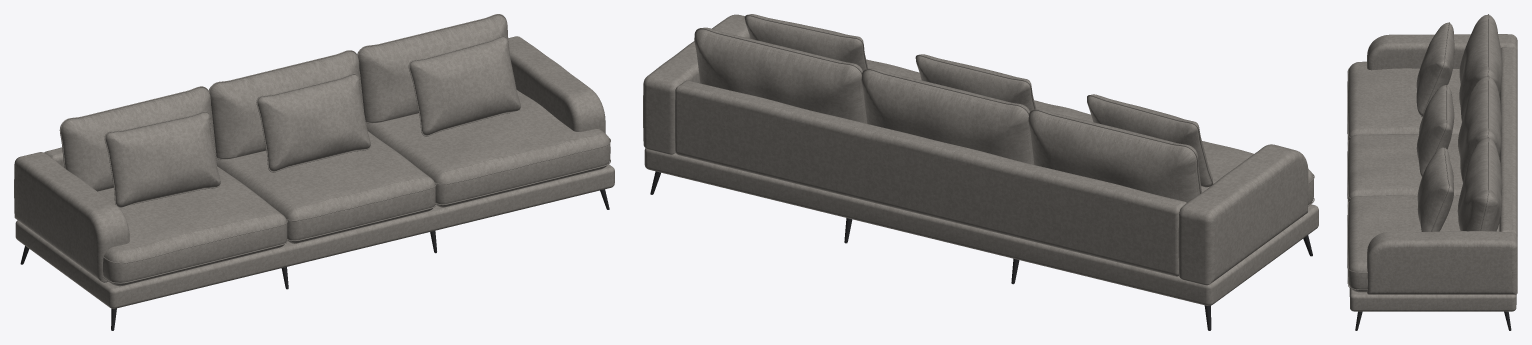
File: straight.glb
3 renders of one model, left to right at view 1: azimuth 30°, elevation 25°; view 2: azimuth 150°, elevation 25°; view 3: azimuth 270°, elevation 25°, orthographic. The views are drawn at different scales.
Parts seen in each view (by area): view 1: fabric (×2), pillows (×2), legs; view 2: fabric (×2), pillows (×2), legs; view 3: fabric (×2), pillows (×2), legs.
Boxes of the visible parts, x1,y1,x2,y2 form: fabric (×2): (14, 14, 614, 308); pillows (×2): (104, 36, 520, 207); legs: (20, 189, 609, 330); fabric (×2): (643, 14, 1318, 305); pillows (×2): (744, 14, 1213, 187); legs: (650, 171, 1312, 330); fabric (×2): (1347, 14, 1517, 311); pillows (×2): (1416, 22, 1454, 231); legs: (1355, 311, 1511, 330).
Bounding box in the file's own units: 3.19 × 0.8806 × 1.09.
3 materials, 2 textured.
